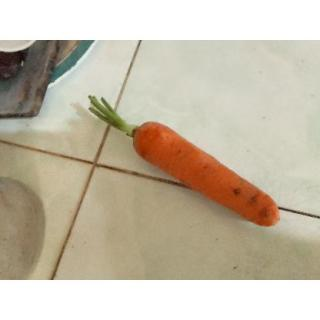Wortel: (69, 90, 296, 256)
